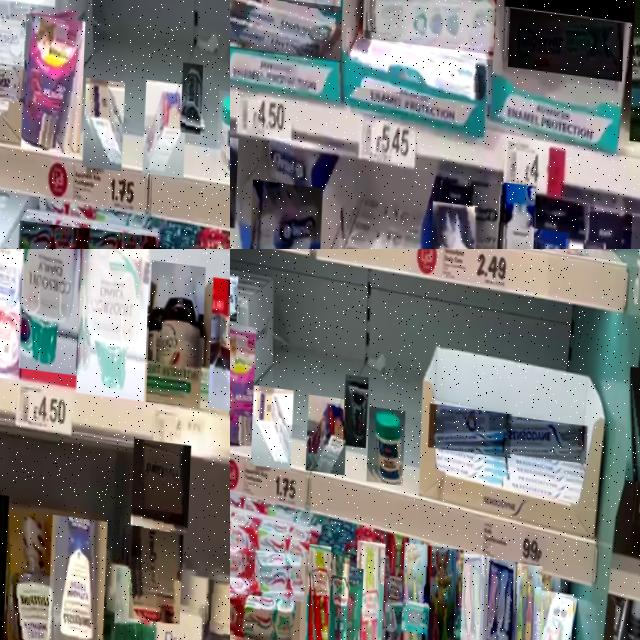Mouthwash: (44, 506, 107, 640), (0, 500, 56, 640)
Other: (75, 249, 152, 392), (21, 10, 86, 150), (146, 251, 205, 399), (18, 249, 86, 368), (129, 498, 184, 615), (131, 429, 191, 523), (249, 177, 323, 249), (111, 558, 158, 640), (0, 249, 29, 374), (462, 172, 505, 249), (230, 318, 256, 443), (207, 266, 230, 402), (366, 400, 406, 478), (495, 174, 536, 249), (427, 194, 479, 249), (142, 592, 201, 640), (201, 568, 230, 640), (343, 368, 369, 442), (625, 354, 640, 472), (181, 55, 203, 128), (215, 82, 230, 169)
Toothbrush: (420, 537, 464, 640), (451, 543, 490, 640), (352, 533, 386, 640), (480, 548, 518, 640), (400, 534, 432, 640), (509, 552, 542, 640), (304, 537, 331, 640), (530, 578, 573, 640), (323, 546, 350, 640), (338, 559, 363, 640)
Toothpaste: (344, 24, 494, 99), (508, 1, 624, 72), (230, 495, 311, 560), (230, 575, 302, 640), (230, 537, 306, 597), (428, 395, 511, 448), (143, 73, 187, 172), (503, 405, 588, 453), (83, 73, 125, 166), (251, 381, 294, 465), (511, 444, 584, 492), (306, 389, 348, 469), (19, 216, 90, 249), (81, 222, 156, 249), (0, 10, 33, 63), (0, 47, 26, 100)
